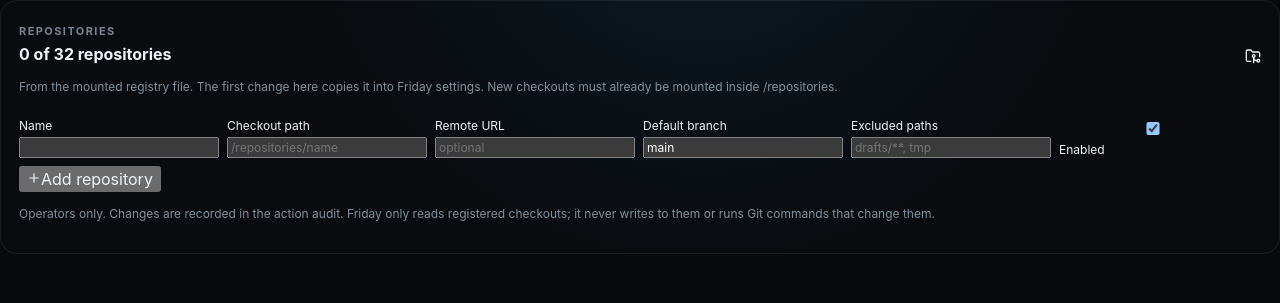
Test: RepositorySettingsPanel › explains operator access and path errors
Click the button "Add repository".
click(90, 179)  # box left=19, top=166, right=161, bottom=192
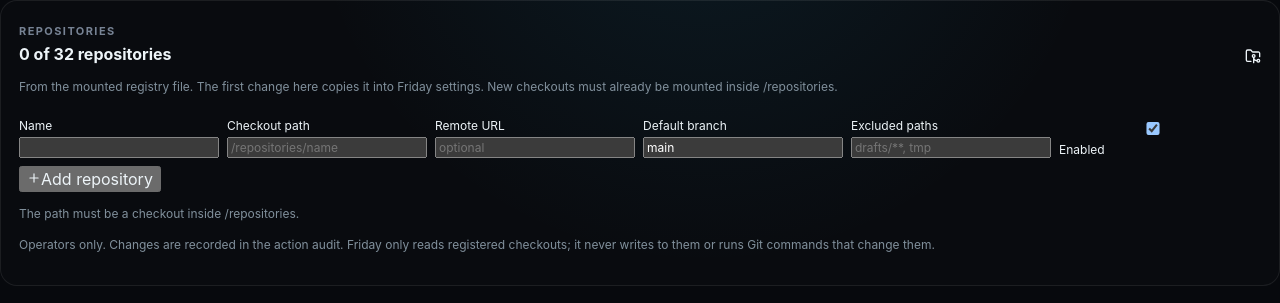
Check: the text "The path must be a checkout inside /repositories." is shown, box left=19, top=206, right=299, bottom=221
Click the button "Add repository".
click(90, 179)  # box left=19, top=166, right=161, bottom=192
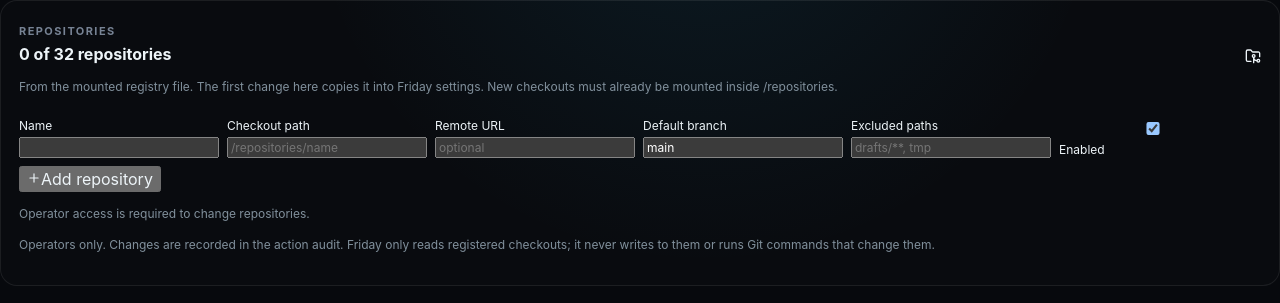
Check: the text "Operator access is required to change repositories." is shown, box left=19, top=206, right=310, bottom=221
